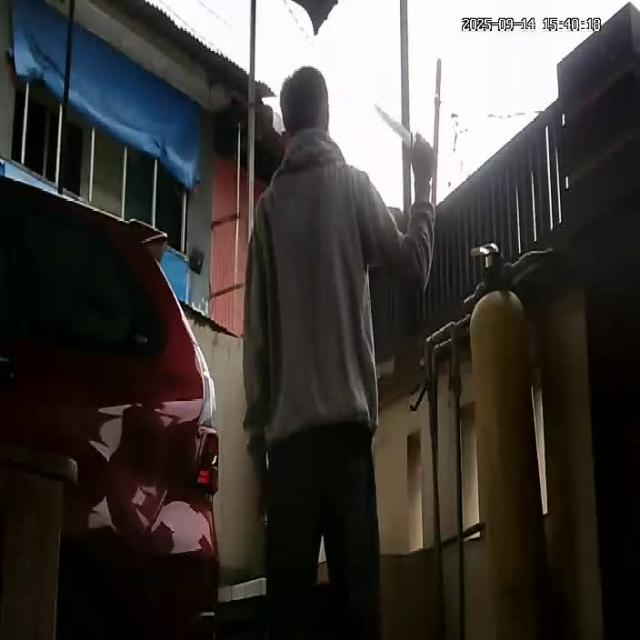senjata_tajam: (373, 102, 416, 152)
